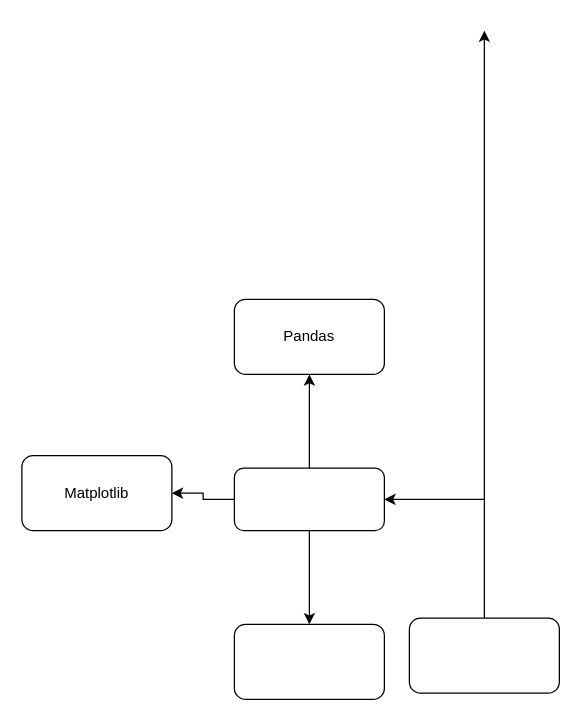
Some shapes in this 581 by 721 pixel diagram are drawn without their labels. The shapes that lost their labels are listed below. From the top down, each one's box as (x1, y1, x2, y2) in pixels, then its label:
(233, 467, 384, 531): Python
(408, 617, 559, 693): Start
